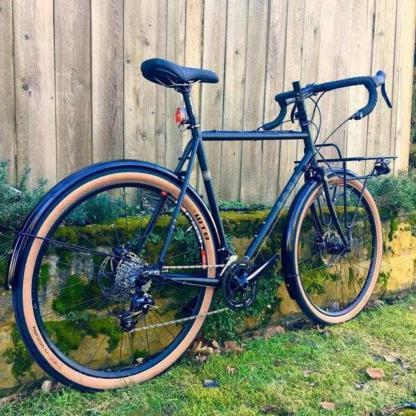Bicycle: (2, 41, 411, 405)
